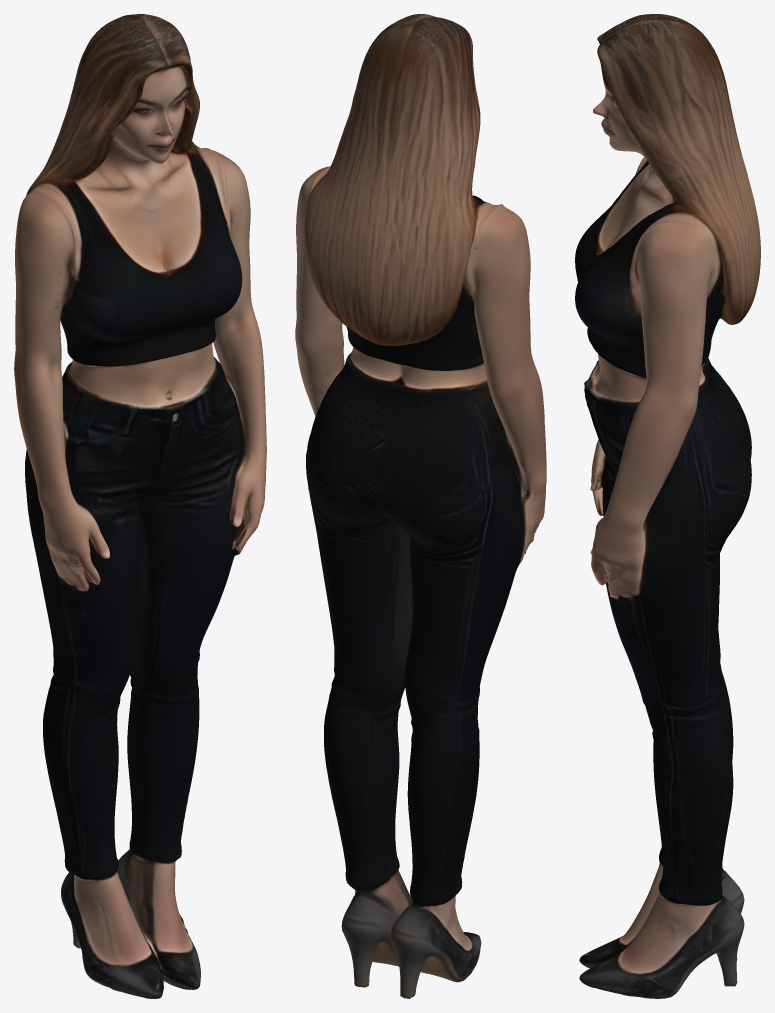
Rendered from mia_for_mixamo.fbx.
3 renders of one model, left to right at view 1: azimuth 30°, elevation 25°; view 2: azimuth 150°, elevation 25°; view 3: azimuth 270°, elevation 25°, orthographic.
Visible parts, largest first — view 1: model; view 2: model; view 3: model.
Part boxes in pixels (bbox=[...]): model: bbox=[14, 14, 266, 998]; model: bbox=[295, 14, 546, 998]; model: bbox=[575, 14, 760, 998].
Bounding box in the file's own units: 0.4901 × 1.9 × 0.334.
Materials: 1 (1 with a texture image).
